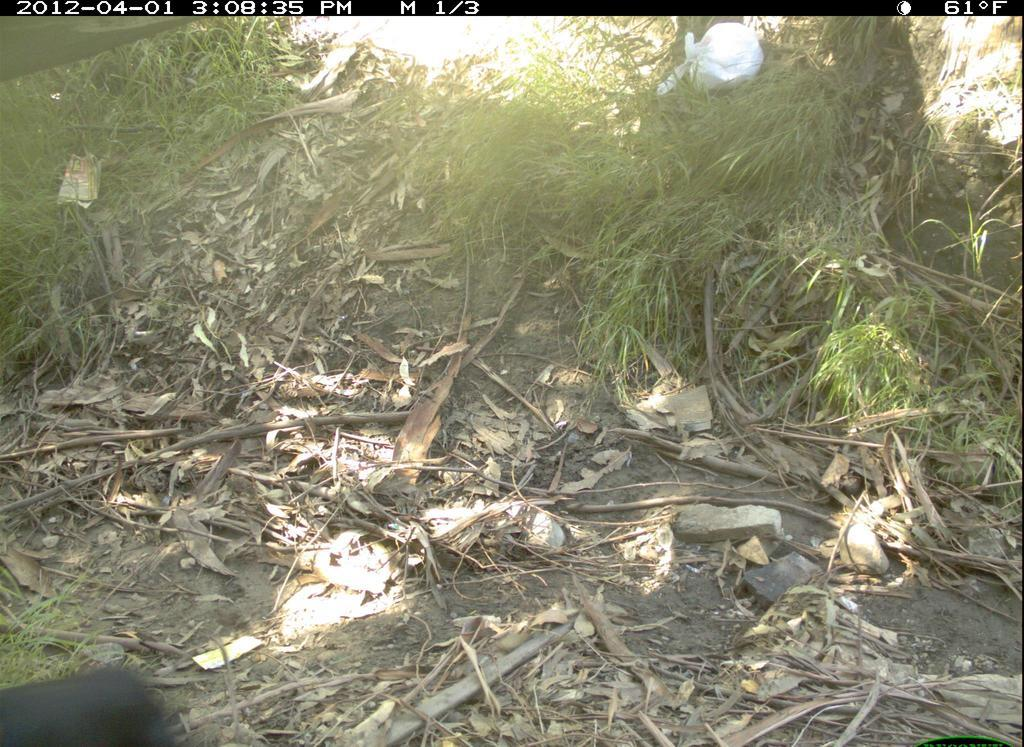dog: (2, 651, 177, 744)
